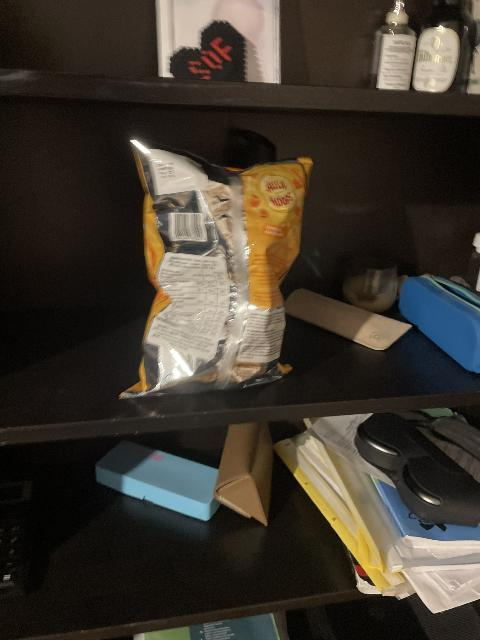Chio Hula Hoops Cheese 70g: (122, 143, 314, 390)
